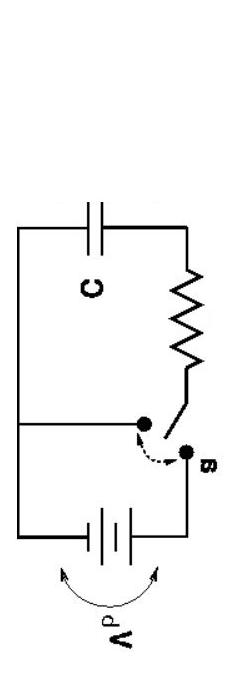resistor: (158, 251, 208, 378)
